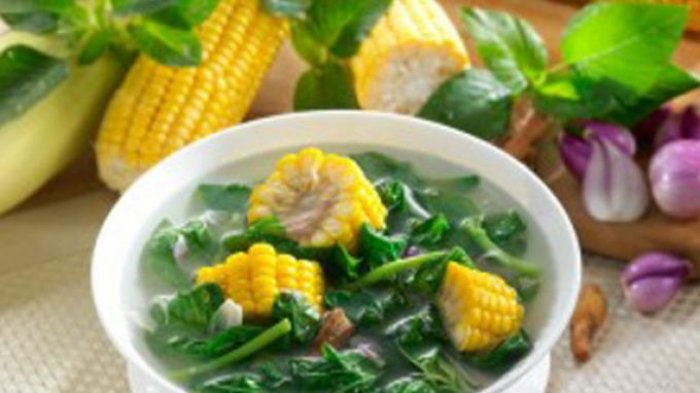Sayur Bayam: (95, 140, 560, 372)
